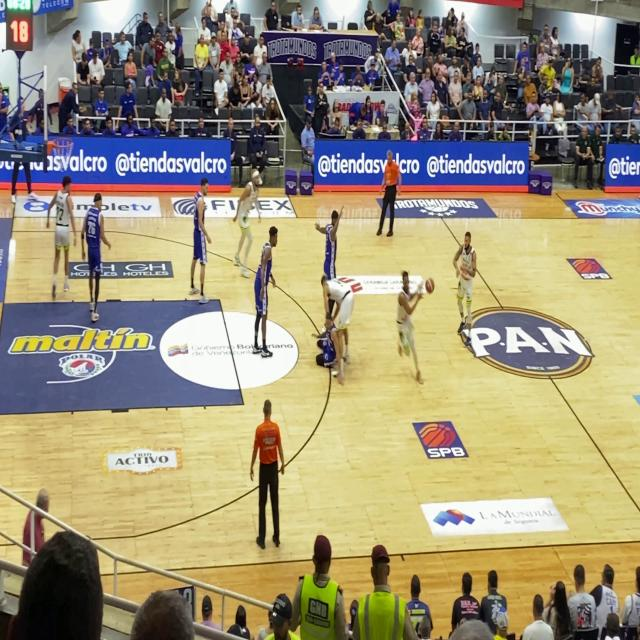Ball: (423, 273, 437, 300)
referee: (239, 397, 290, 559), (375, 147, 405, 256)
team1: (38, 170, 78, 311), (388, 267, 432, 394), (320, 262, 358, 390), (450, 215, 482, 351), (233, 165, 262, 284)
team2: (80, 179, 113, 334), (247, 214, 279, 362), (184, 175, 212, 310), (308, 196, 346, 274), (309, 306, 343, 368)
ubasket: (49, 136, 74, 174)
